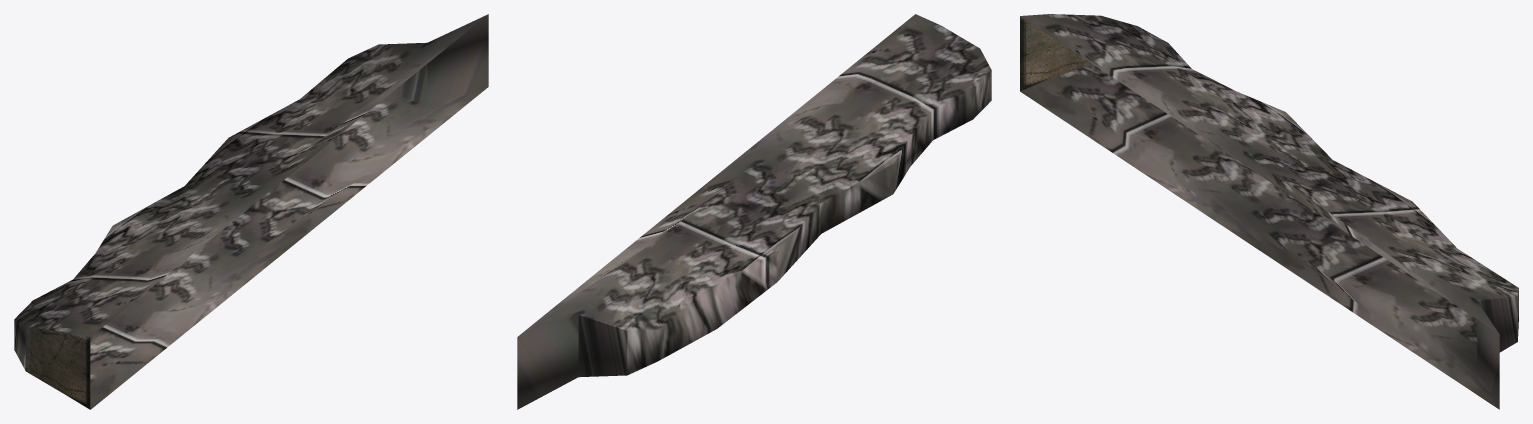
The model's file is CH09_SMAUG_PLAYSURFACE_LAIR49.fbx.
3 renders of one model, left to right at view 1: azimuth 30°, elevation 25°; view 2: azimuth 210°, elevation 25°; view 3: azimuth 270°, elevation 25°, orthographic. The views are drawn at different scales.
Visible parts, largest first — view 1: CH09_SMAUG_PLAYSURFACE_LAIR49; view 2: CH09_SMAUG_PLAYSURFACE_LAIR49; view 3: CH09_SMAUG_PLAYSURFACE_LAIR49.
Part boxes in pixels (bbox=[...]): CH09_SMAUG_PLAYSURFACE_LAIR49: bbox=[14, 14, 488, 409]; CH09_SMAUG_PLAYSURFACE_LAIR49: bbox=[517, 14, 991, 409]; CH09_SMAUG_PLAYSURFACE_LAIR49: bbox=[1020, 14, 1518, 409].
Bounding box in the file's own units: 57448 × 6106 × 36553.
Materials: 2 (2 with a texture image).
